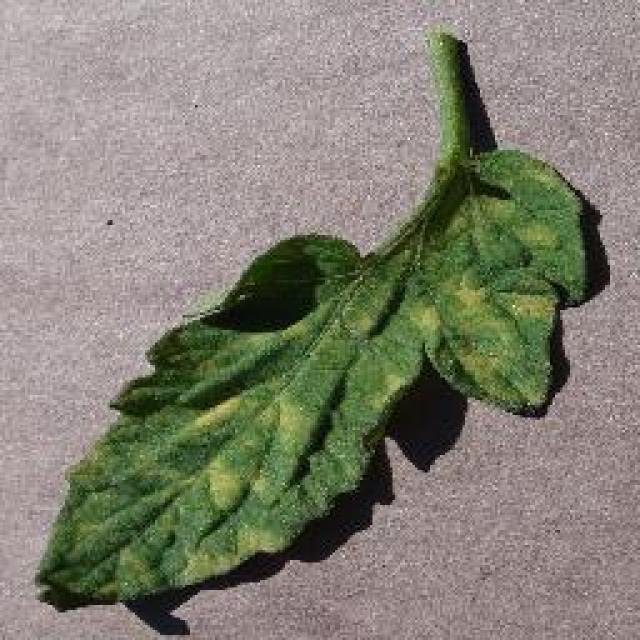Tomato___Leaf_Mold: (40, 32, 588, 600)
